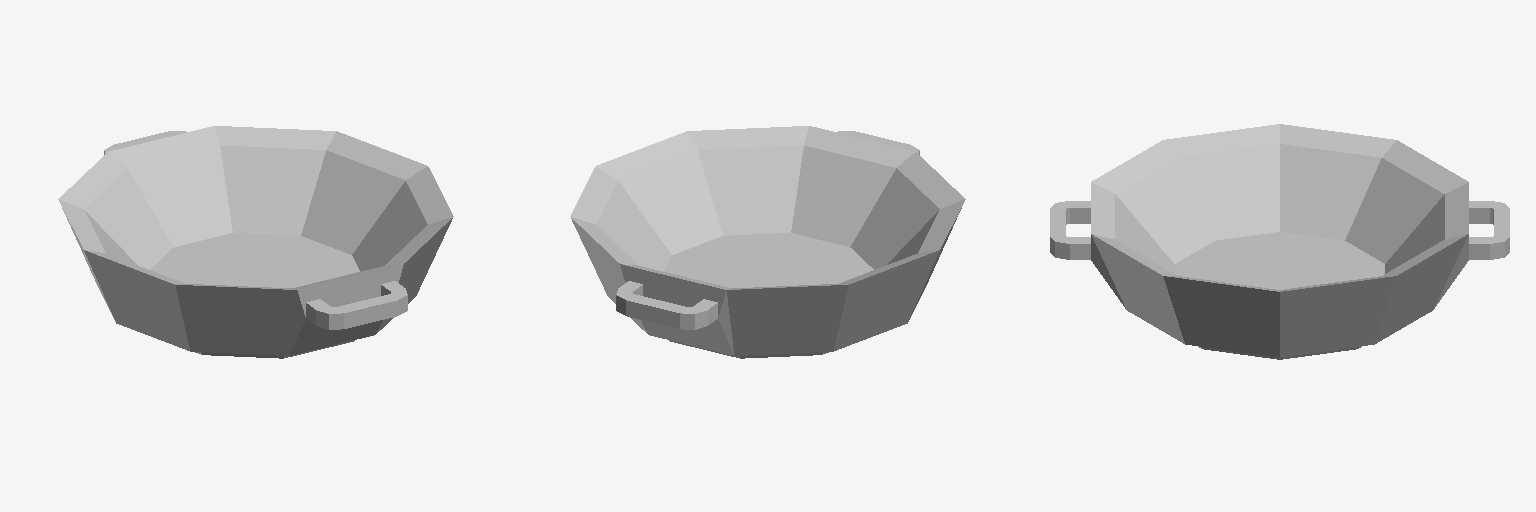
Rendered from pan.obj.
The picture shows the model from 3 angles: view 1: azimuth 30°, elevation 25°; view 2: azimuth 150°, elevation 25°; view 3: azimuth 270°, elevation 25°; orthographic projection.
Parts seen in each view (by area): view 1: pan; view 2: pan; view 3: pan.
Part boxes in pixels (bbox=[...]): pan: bbox=[58, 126, 453, 358]; pan: bbox=[570, 126, 965, 358]; pan: bbox=[1050, 124, 1509, 359].
Size of the model in its own units: 0.6574 by 0.1753 by 0.7621.